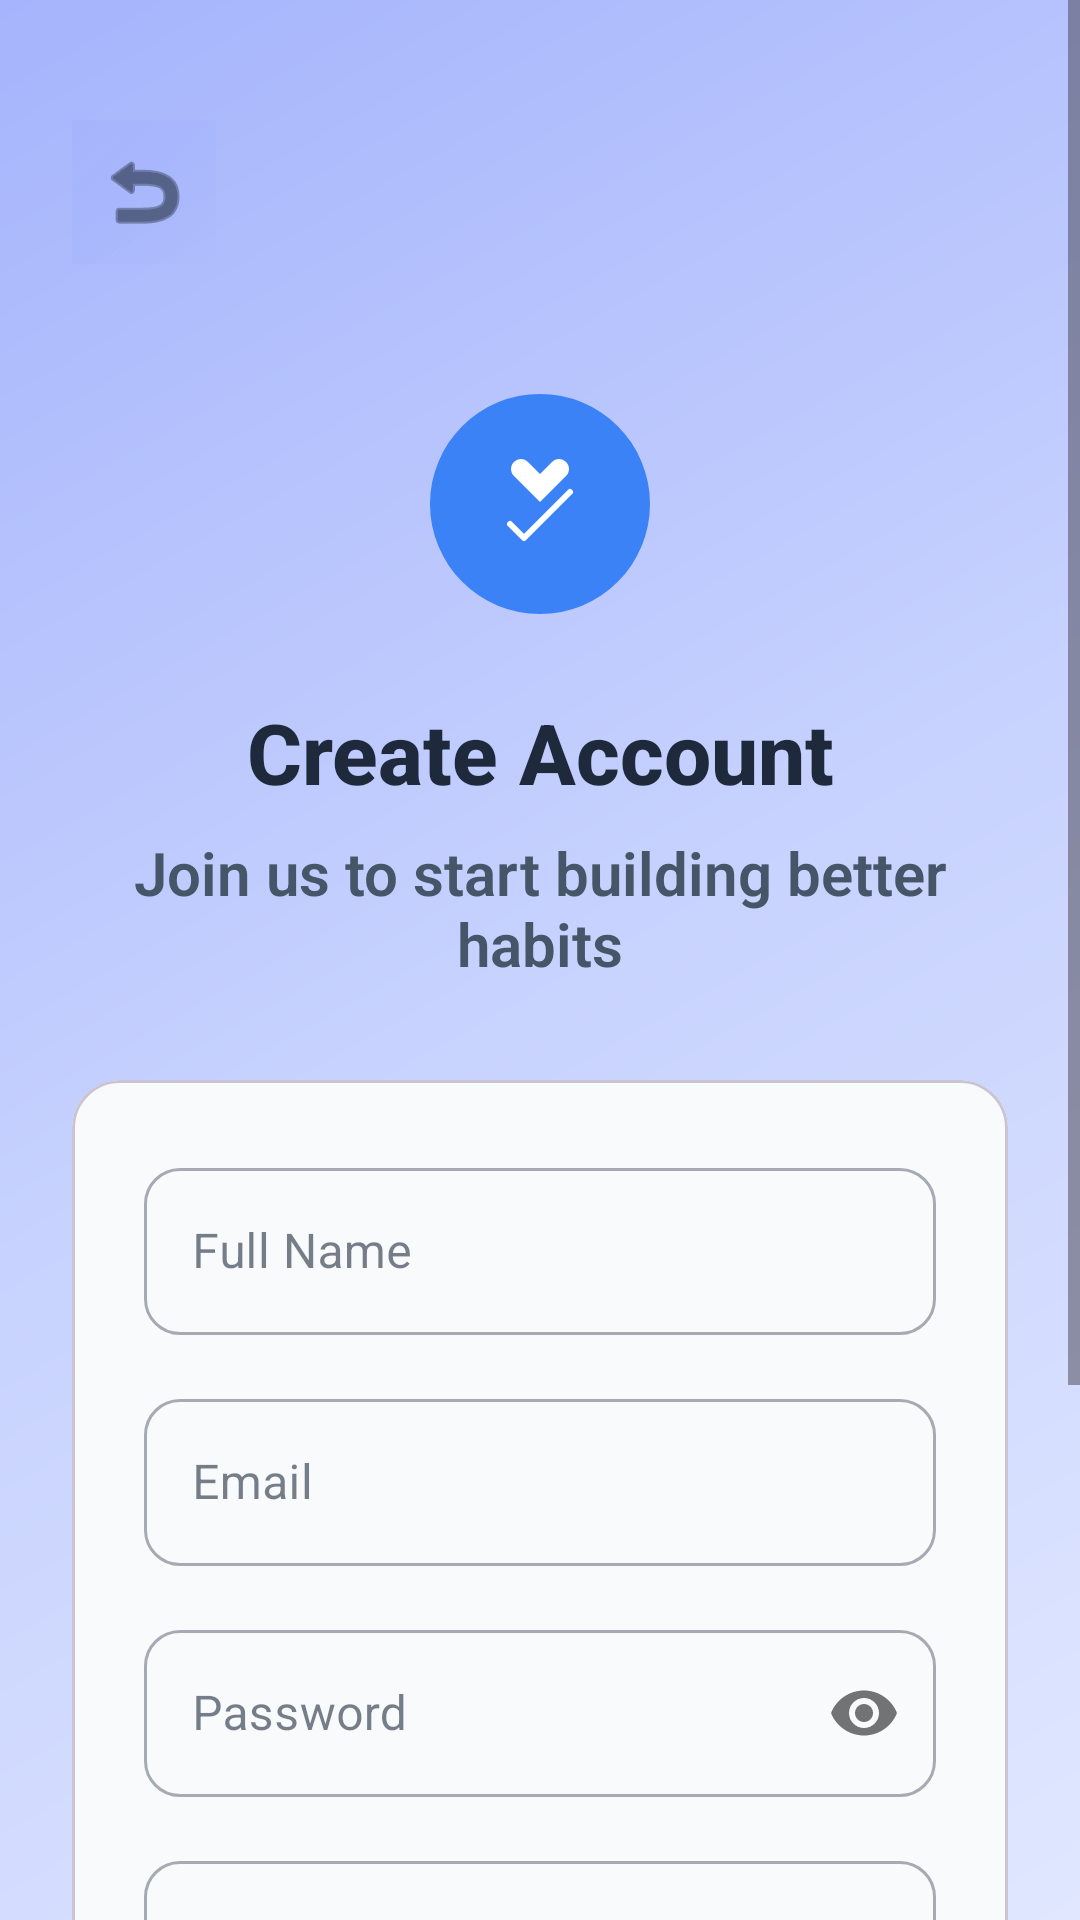

Screen size 1080px×1920px. Icon name, then its center in pixels as point (x, y):
revert: point (145, 192)
